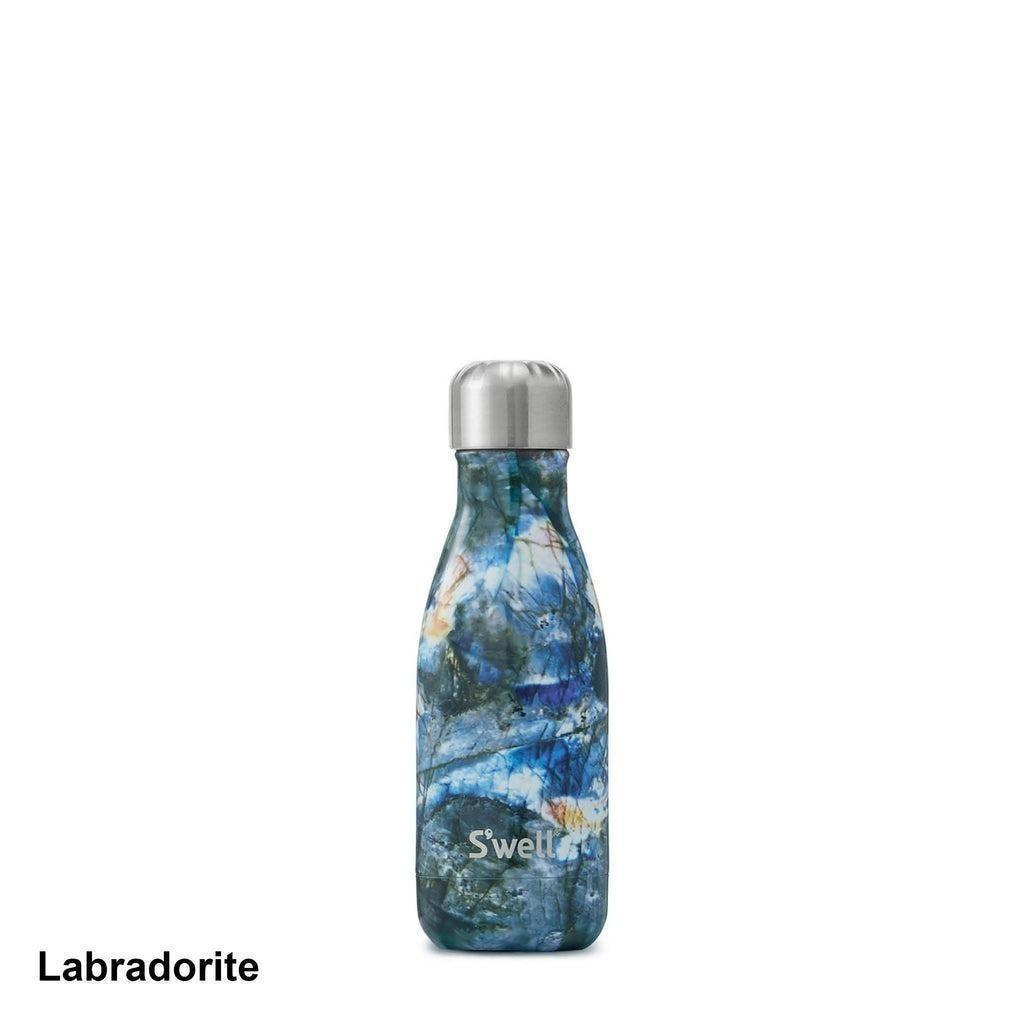gym bottle: (407, 348, 619, 967)
